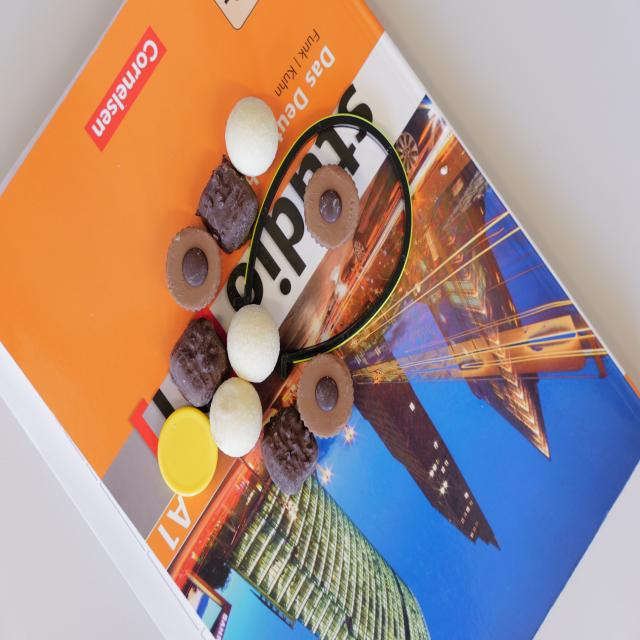Comtesse: (225, 304, 280, 384), (209, 377, 261, 457), (226, 99, 279, 177)
Noblesse: (303, 162, 361, 252), (297, 352, 355, 440), (166, 226, 224, 314)
Tentation_noir: (194, 158, 256, 257), (259, 405, 319, 496), (169, 316, 226, 408)
